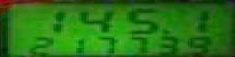-: (157, 28, 172, 34)
1: (193, 8, 208, 33), (48, 9, 63, 33), (71, 36, 83, 54)
2: (25, 35, 50, 55)
3: (154, 34, 175, 54)
4: (76, 9, 109, 31)
5: (124, 7, 157, 33)
7: (93, 34, 114, 53), (127, 35, 144, 52)
9: (185, 35, 210, 54)
